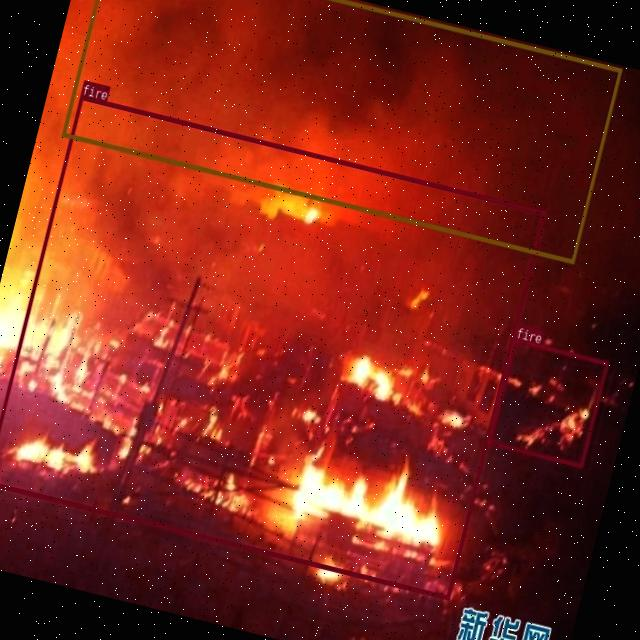fire: (0, 93, 545, 598), (487, 337, 608, 467)
smoke: (60, 0, 621, 262)
